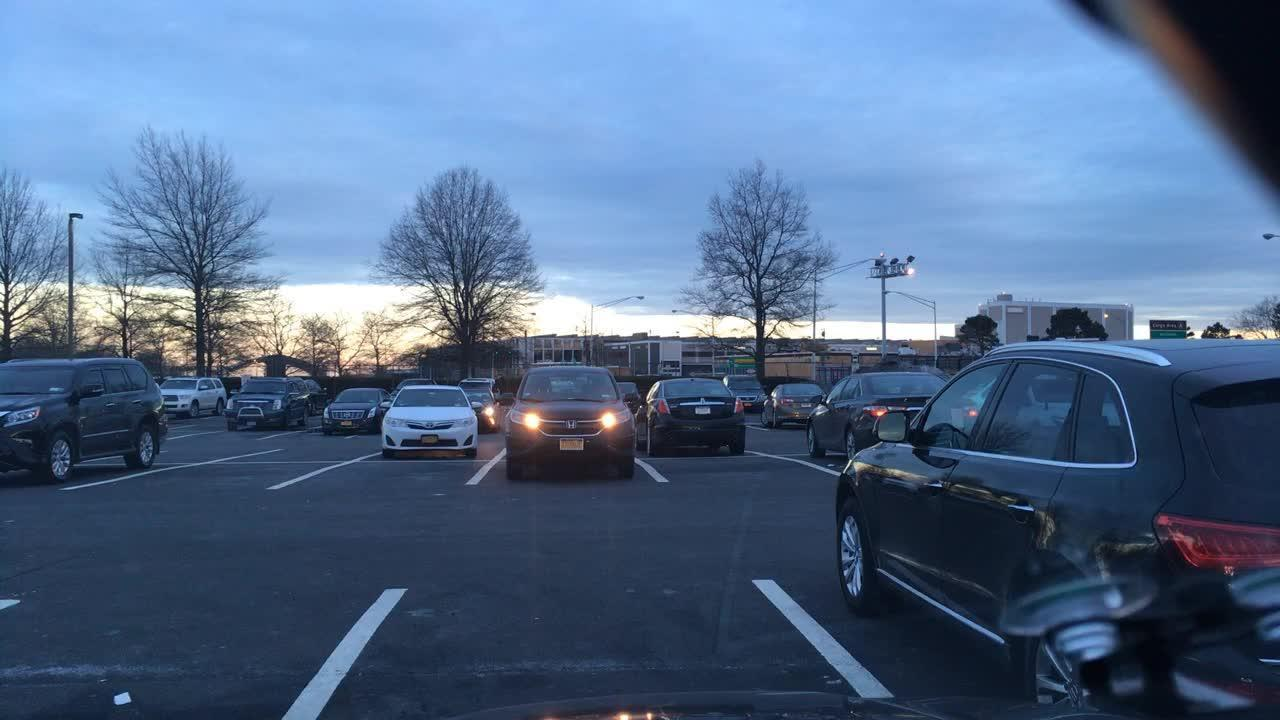Honda: (561, 416, 580, 432)
